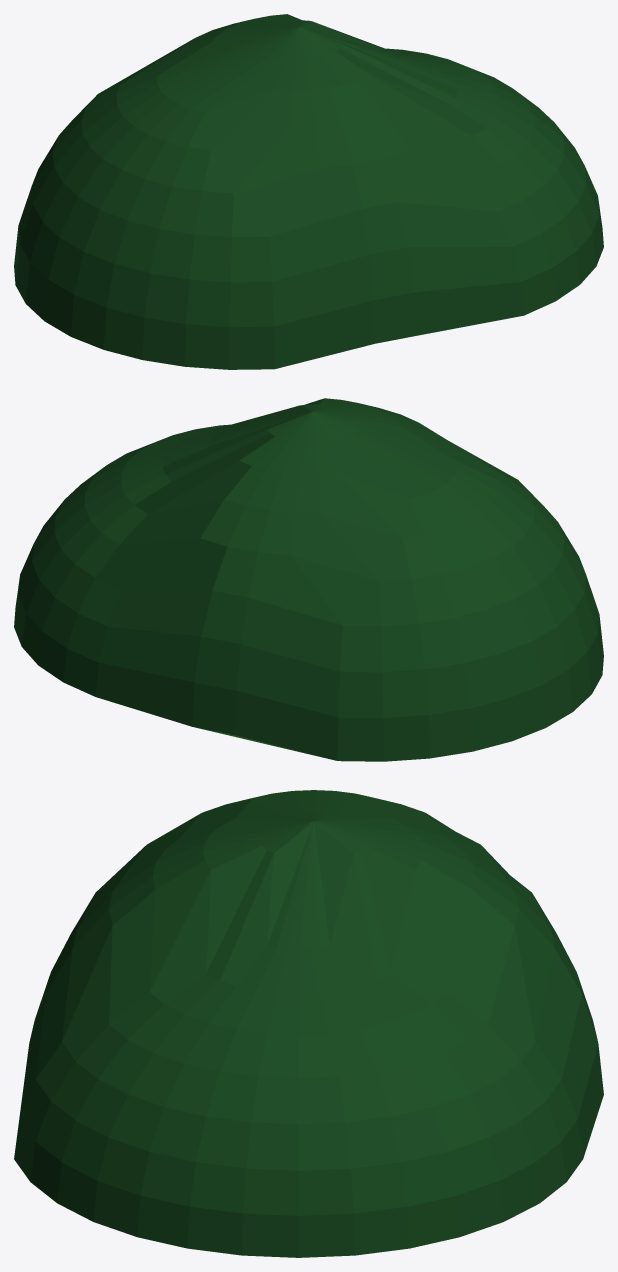
File: Bush2.fbx
3 views of the same model, one above another, from view 1: azimuth 30°, elevation 25°; view 2: azimuth 150°, elevation 25°; view 3: azimuth 270°, elevation 25° (orthographic). The views are drawn at different scales.
Parts seen in each view (by area): view 1: Sphere; view 2: Sphere; view 3: Sphere.
Part boxes in pixels (x1,y1,x2,y2): Sphere: (14,14,603,369); Sphere: (14,398,603,761); Sphere: (14,790,603,1257).
Bounding box in the file's own units: 297 × 126 × 237.
